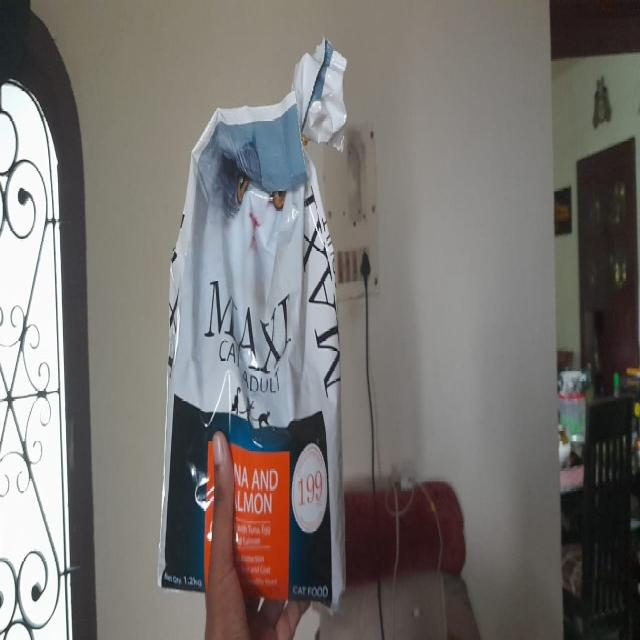Plastic - Recyclable: (156, 39, 349, 613)
